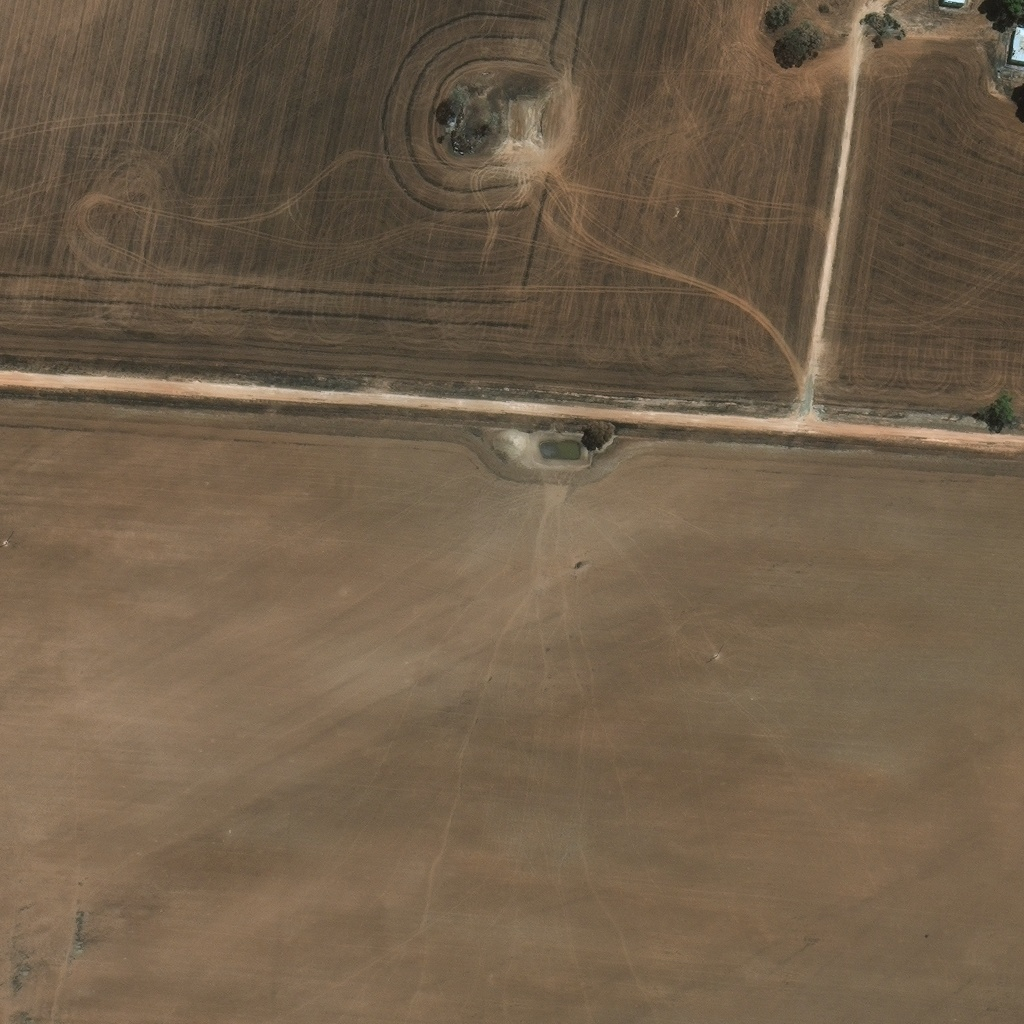4 un-classified: (1013, 23, 1023, 60)
